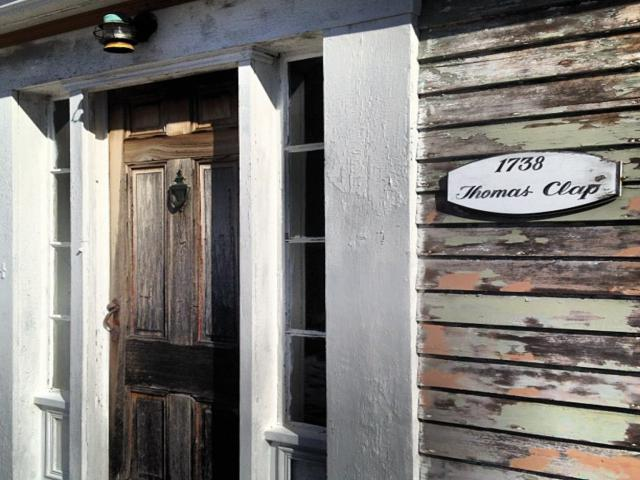Door-handle: (163, 168, 197, 212), (105, 297, 118, 341)
